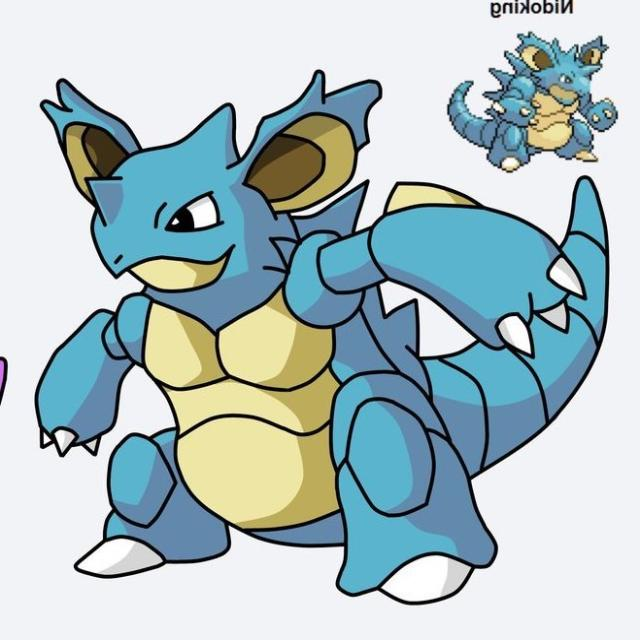Nidoqueen: (33, 73, 495, 607), (449, 32, 631, 173)
